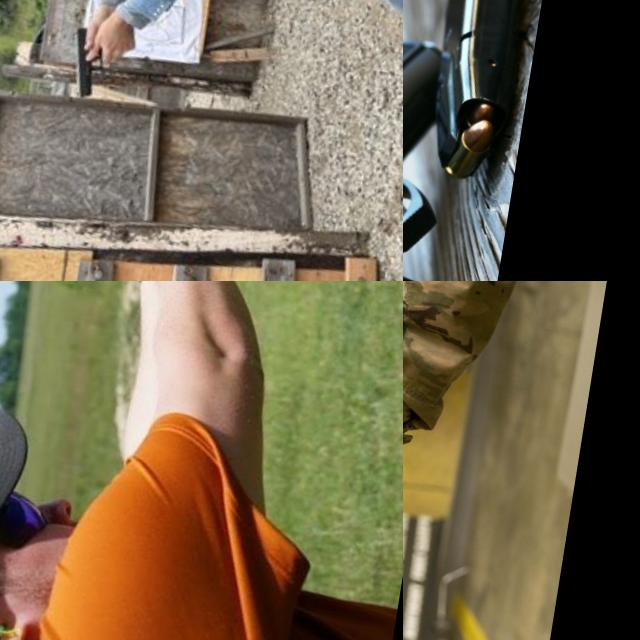handgun: (403, 4, 594, 281), (403, 422, 445, 580), (58, 281, 145, 338), (59, 21, 110, 102)
